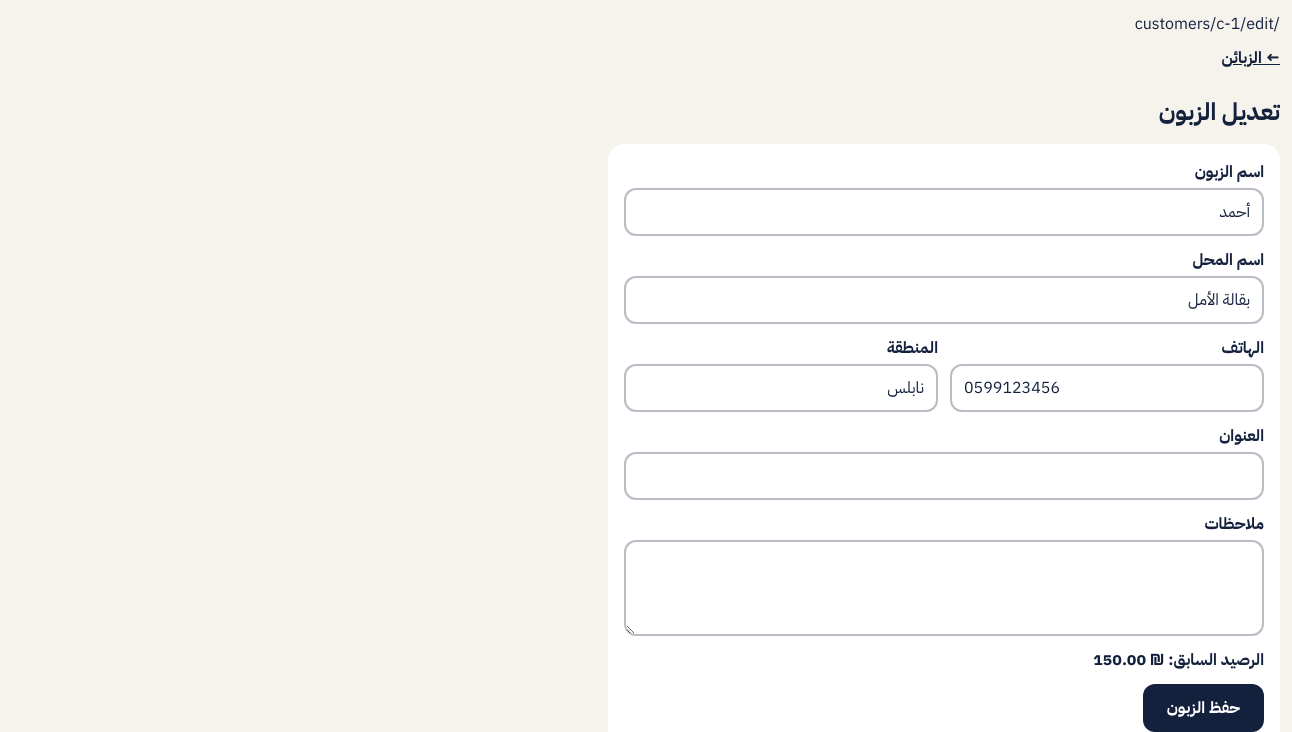
Test case: adding and editing a customer › editing shows the opening balance as fixed text and never lets it change
Replace the text in the field labelled "اسم الزبون" with "أحمد علي" at (944, 212), box [624, 188, 1264, 236]
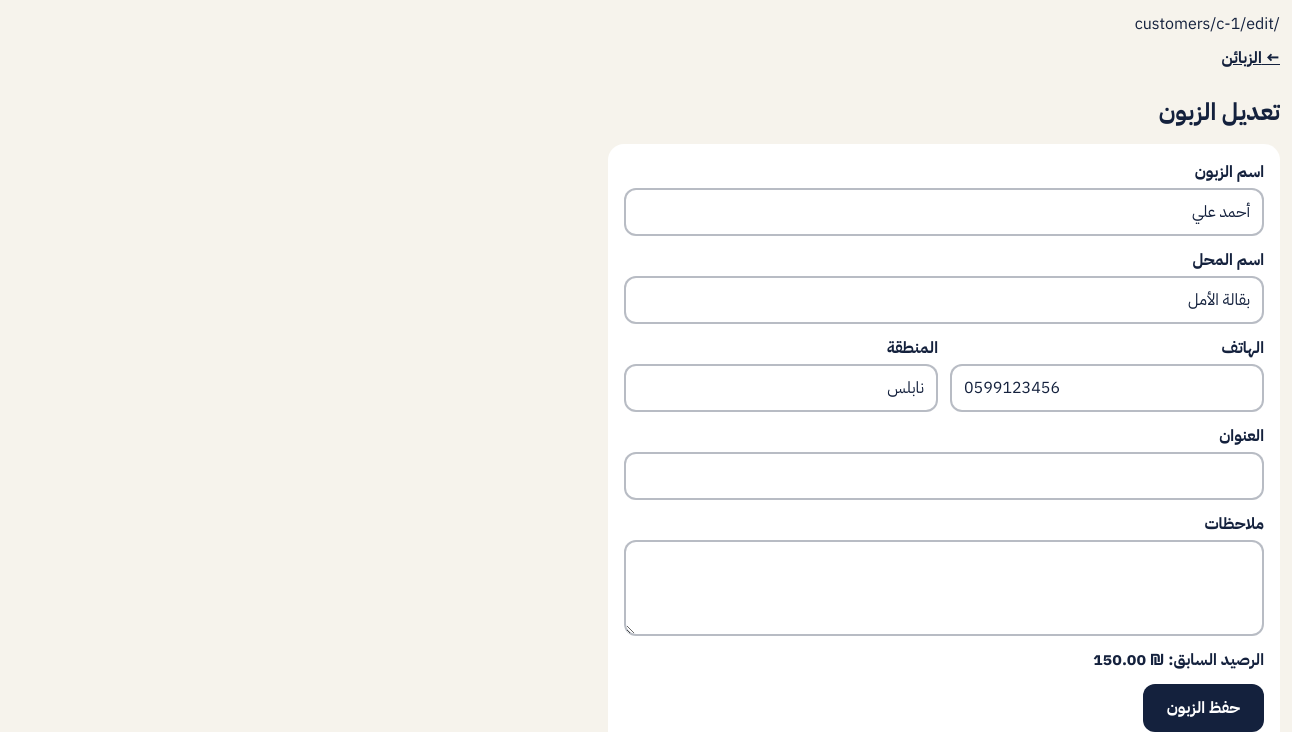
Click the button "حفظ الزبون" at (1203, 708), box [1143, 684, 1264, 731]
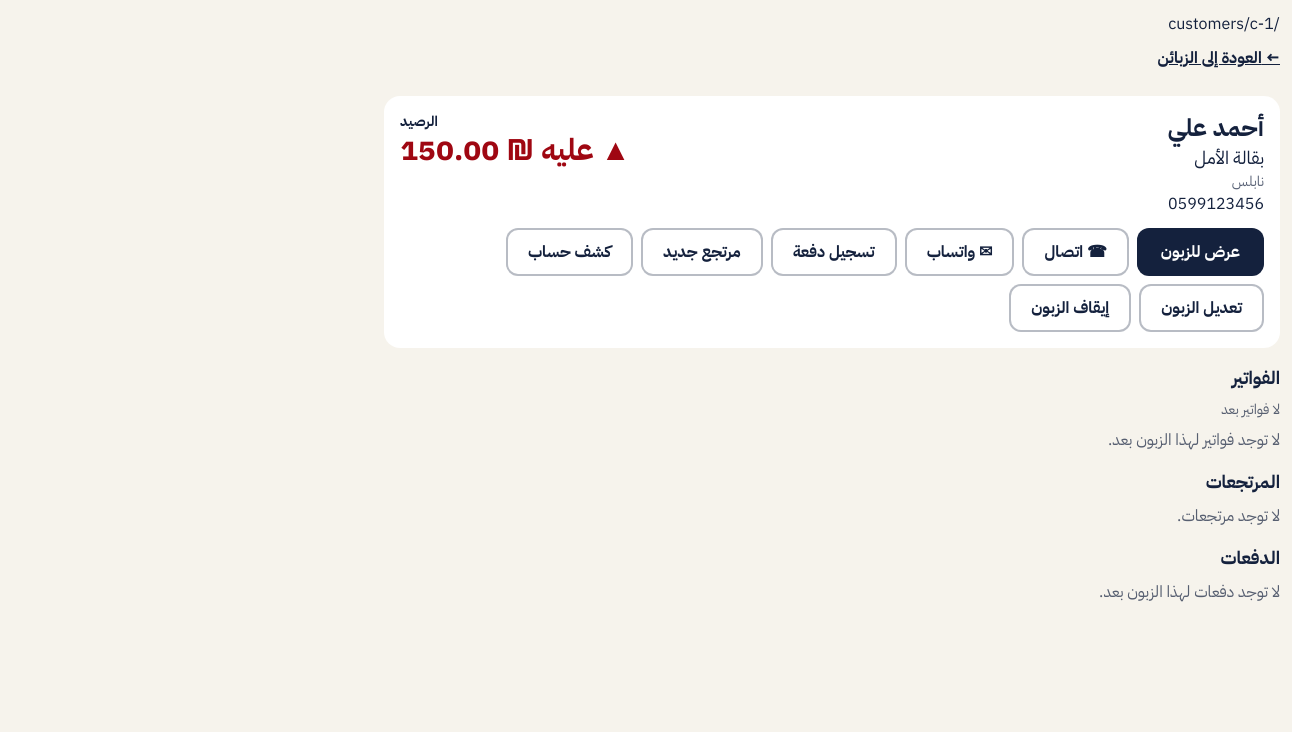
Result: the text with test id "where" reads "/customers/c-1" at [1168, 12, 1280, 36]
